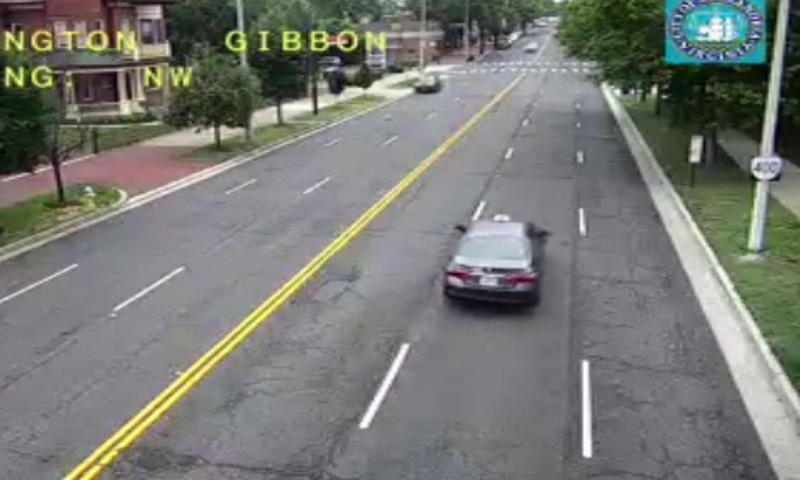car: (443, 220, 540, 305)
